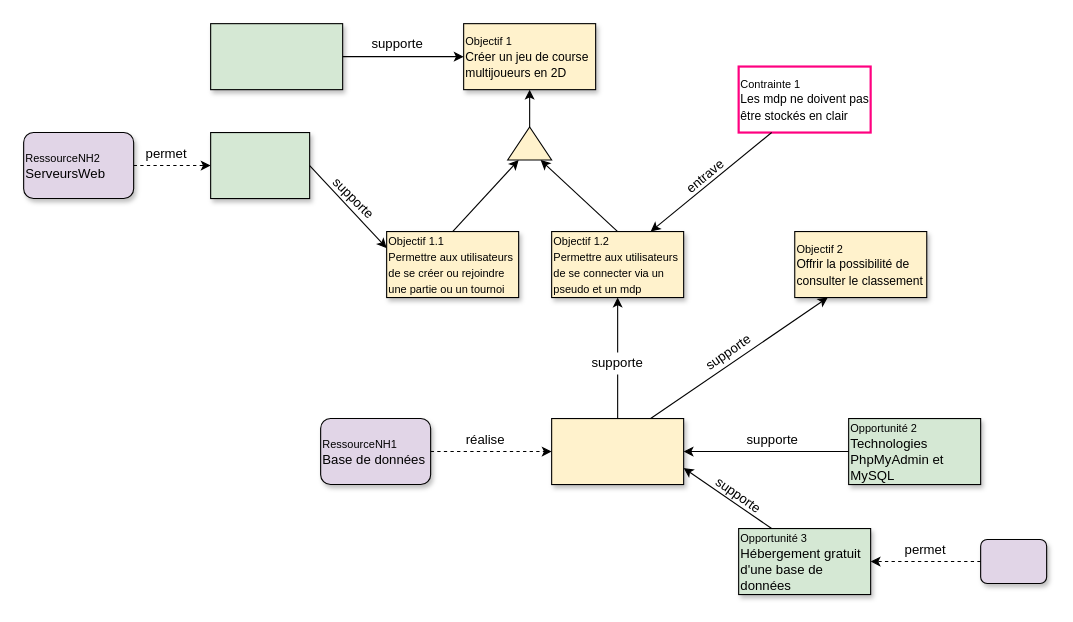
The diagram is 1073 pixels wide and 622 high, and some of its shapes have lost their labels. Here are the shapes that lost their labels. From the top down, the centre of each, then its label:
At point (277, 57): "Opportunité 1 Technologies Angular et NodeJS".
At point (260, 166): "Opportunité 4 Utilisations des WebSockets".
At point (618, 452): "Objectif 3 Stocké les informations dans une base de données".
At point (1014, 562): "UnitéOrg1 CUI".
